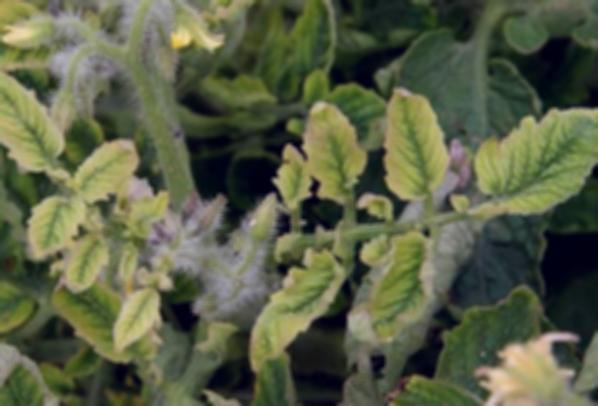Tomato leaf yellow virus: (465, 94, 598, 227), (243, 247, 349, 385), (356, 224, 440, 366), (0, 57, 64, 198), (384, 81, 441, 205), (14, 191, 80, 297), (69, 123, 144, 215), (311, 83, 362, 193), (103, 290, 168, 365)
